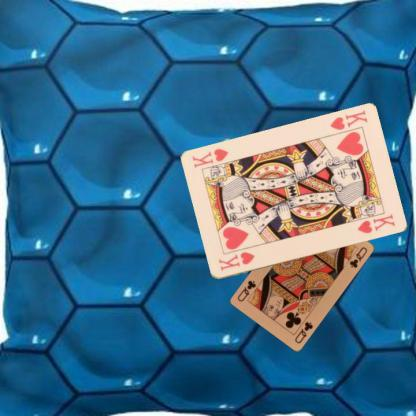Kh: (327, 107, 369, 132), (215, 250, 256, 272)
Qc: (292, 319, 314, 344)
